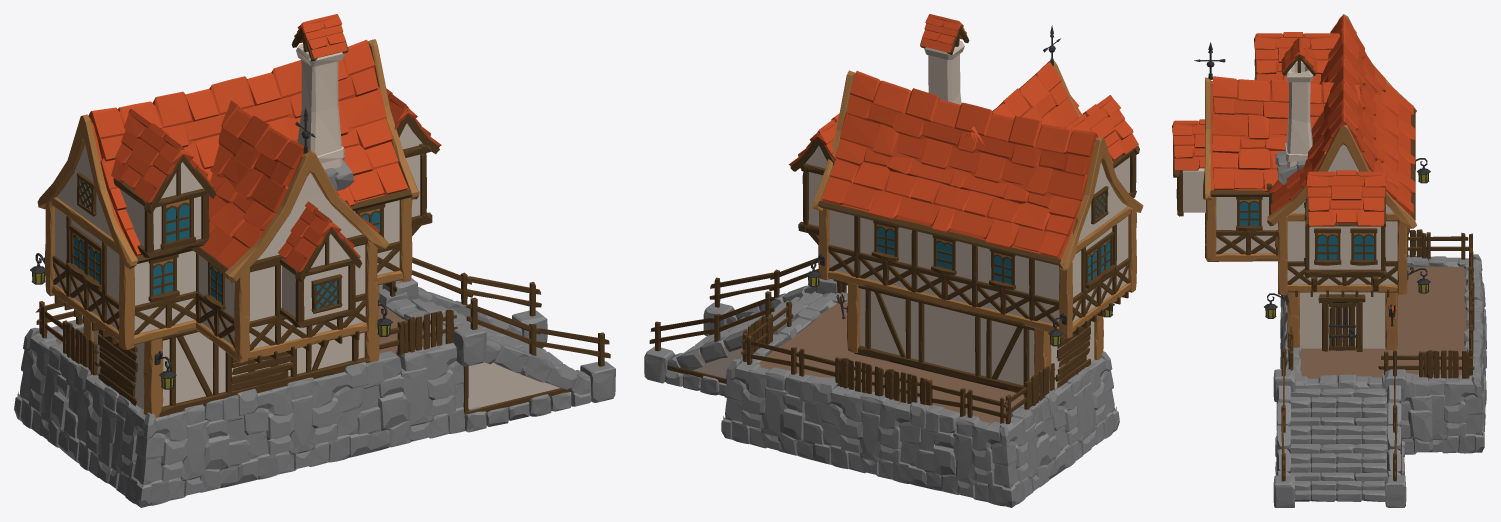
File: SM_inn_tavern.fbx
3 views of the same model, side by side, from view 1: azimuth 30°, elevation 25°; view 2: azimuth 150°, elevation 25°; view 3: azimuth 270°, elevation 25° (orthographic). The views are drawn at different scales.
Visible parts, largest first — view 1: Group34222; view 2: Group34222; view 3: Group34222.
Boxes of the visible parts, x1=… form: Group34222: x1=14, y1=14, x2=615, y2=507; Group34222: x1=644, y1=14, x2=1143, y2=507; Group34222: x1=1172, y1=14, x2=1486, y2=507.
Bounding box in the file's own units: 706 × 599 × 481.
